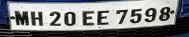0: (63, 9, 75, 26)
2: (48, 10, 61, 26)
5: (128, 7, 142, 23)
7: (114, 7, 127, 24)
8: (158, 4, 170, 21)
9: (143, 6, 156, 22)
E: (95, 9, 109, 25), (81, 8, 94, 25)
H: (29, 9, 44, 26)
M: (13, 8, 29, 26)
